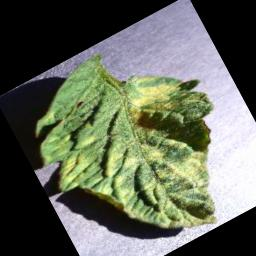Leaf_Mold: (8, 16, 256, 256), (116, 60, 181, 118)
